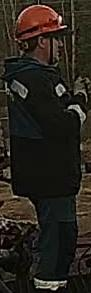gloves: (74, 75, 91, 107)
helmet: (13, 4, 68, 42)
vest: (2, 56, 81, 197)
